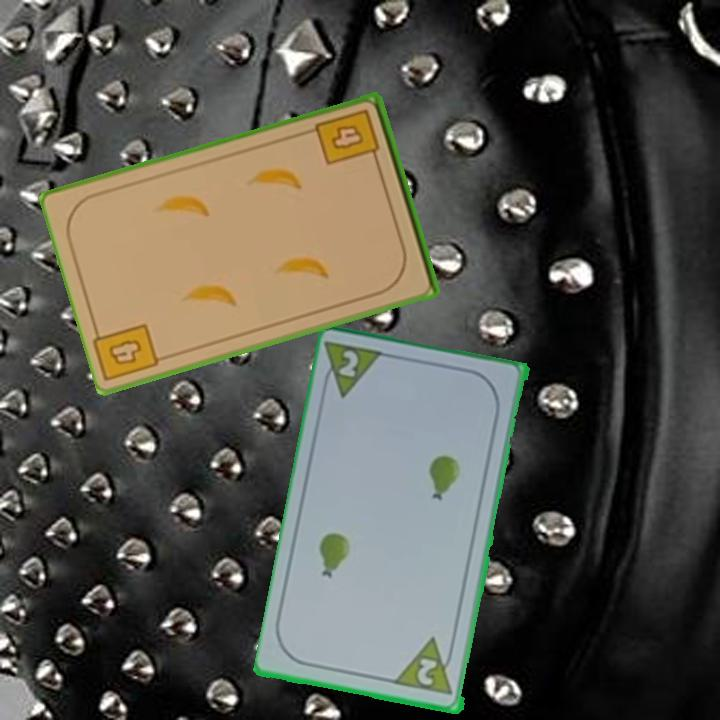2p: (413, 654, 441, 689), (336, 347, 362, 381)
4b: (313, 106, 383, 169), (104, 336, 145, 369)
